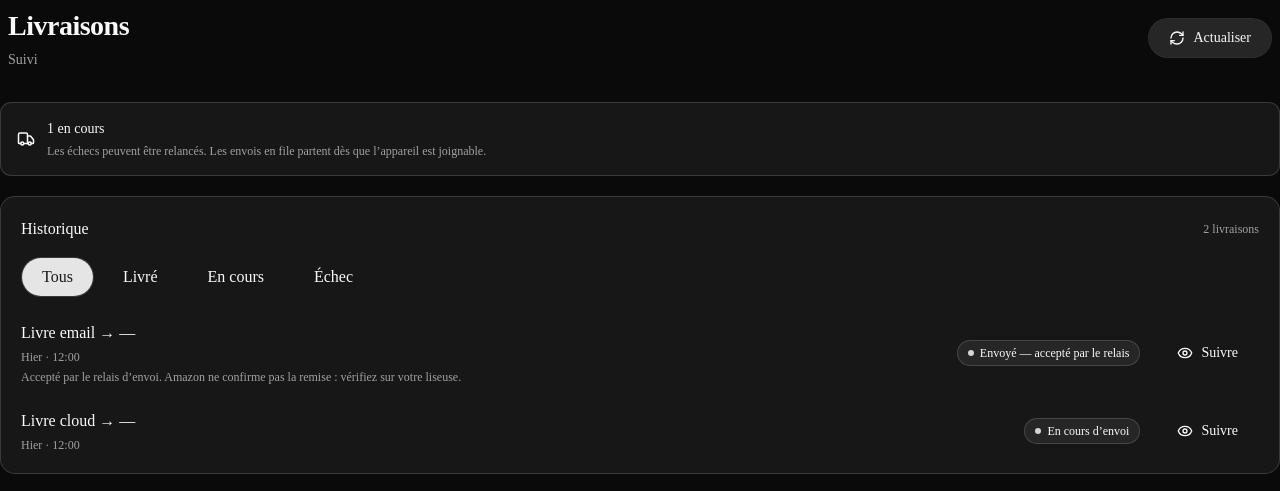
it: Delivery truth › excludes accepted email from active count and filter but keeps cloud sent
Expected: the text "Envoyé — accepté par le relais" is shown, [980,345,1129,361]
Expected: the text "En cours d’envoi" is shown, [1048,423,1130,439]
Click the button "En cours" at (236, 277), box [186,257,285,297]
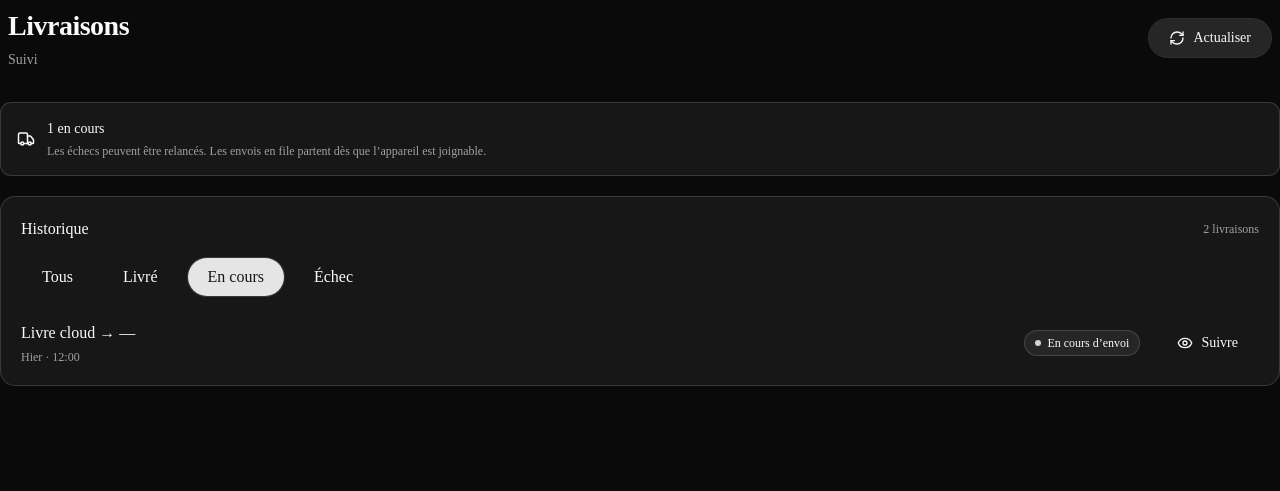
Expected: the heading "Livre cloud → —" is shown, [21,324,135,341]
Result: the heading "Livre email →" is gone
